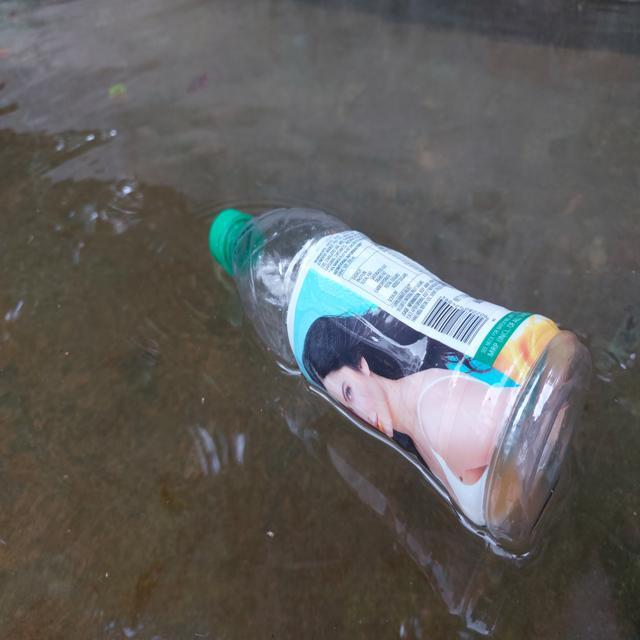waterbottle: (200, 176, 636, 600)
